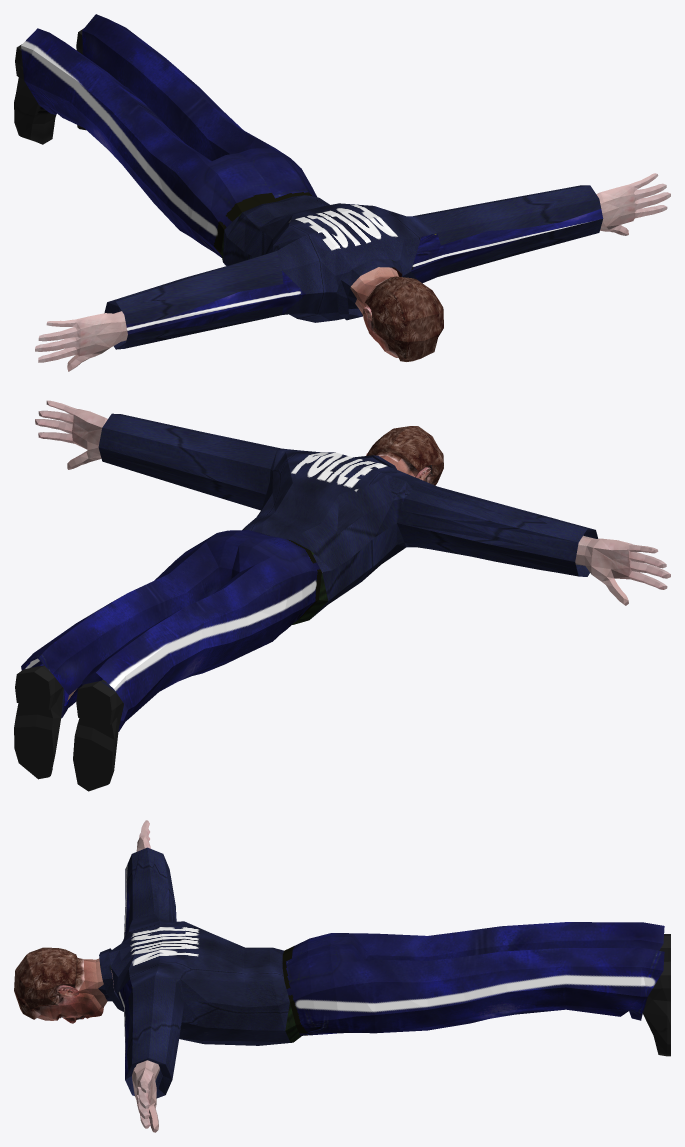
The model's file is tomdrinman1is5police_wtf.obj.
The picture shows the model from 3 angles, top to bottom: view 1: azimuth 30°, elevation 25°; view 2: azimuth 150°, elevation 25°; view 3: azimuth 270°, elevation 25°; orthographic projection. The views are drawn at different scales.
Parts seen in each view (by area): view 1: group1, group5, group6, group7, group10, group3, group4, group8, group14; view 2: group1, group5, group6, group7, group8, group3, group4, group10; view 3: group1, group5, group7, group10, group6, group14, group8, group4.
Part boxes in pixels (x1,y1,x2,y2): group1: (21,14,316,261); group5: (223,195,444,322); group6: (104,251,284,349); group7: (413,185,603,276); group10: (365,276,443,361); group3: (35,311,127,371); group4: (596,173,670,235); group8: (14,28,86,144); group14: (350,267,398,357); group1: (21,530,328,731); group5: (242,448,436,618); group6: (397,484,597,576); group7: (98,413,281,510); group8: (14,665,123,791); group3: (575,536,670,605); group4: (35,400,107,469); group10: (366,426,443,485); group1: (282,922,664,1042); group5: (98,914,291,1045); group7: (124,976,184,1098); group10: (14,947,84,1019); group6: (124,847,176,937); group14: (37,958,107,1023); group8: (643,934,670,1056); group4: (132,1060,159,1132).
Bounding box in the file's own units: 660 × 121 × 650.
